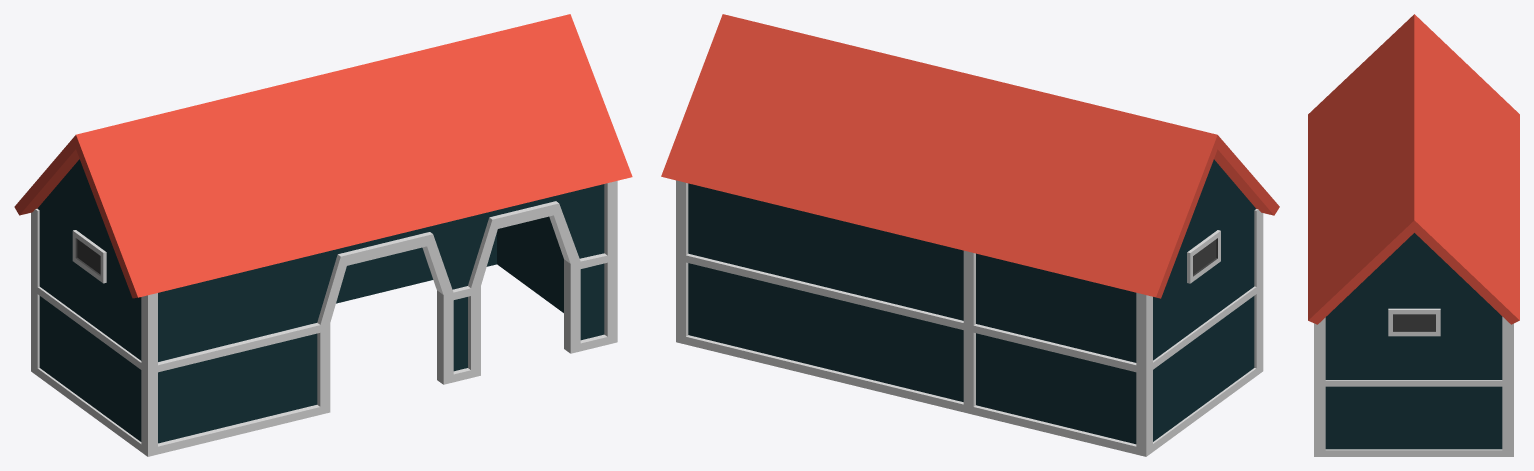
Rendered from House_02.FBX.
3 renders of one model, left to right at view 1: azimuth 30°, elevation 25°; view 2: azimuth 150°, elevation 25°; view 3: azimuth 270°, elevation 25°, orthographic. The views are drawn at different scales.
Visible parts, largest first — view 1: House_02; view 2: House_02; view 3: House_02.
Boxes of the visible parts, box(x1,y1,x2,y2) form: House_02: box(14, 14, 632, 456); House_02: box(661, 14, 1279, 456); House_02: box(1308, 14, 1519, 456).
Size of the model in its own units: 11.52 by 6.3 by 5.
Materials: 1 (1 with a texture image).
